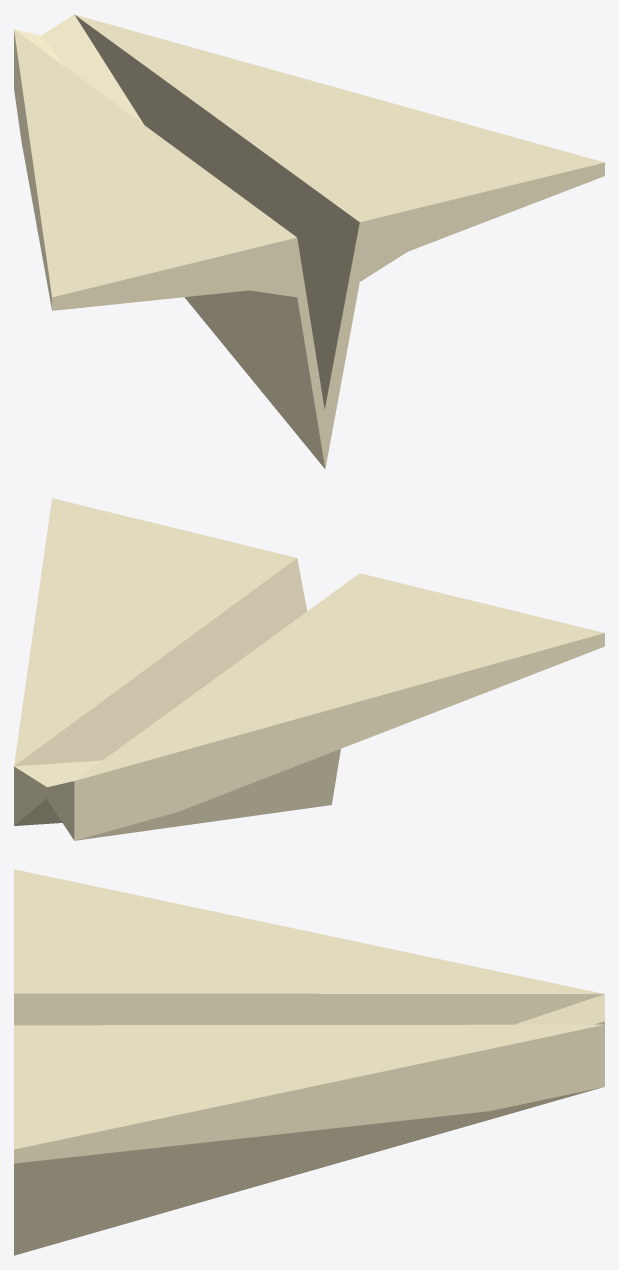
Rendered from paperPlane.fbx.
3 views of the same model, one above another, from view 1: azimuth 30°, elevation 25°; view 2: azimuth 150°, elevation 25°; view 3: azimuth 270°, elevation 25° (orthographic). The views are drawn at different scales.
Visible parts, largest first — view 1: paper_plane; view 2: paper_plane; view 3: paper_plane.
Part boxes in pixels (box(x1,y1,x2,y2)): paper_plane: box(14, 14, 604, 468); paper_plane: box(14, 498, 604, 840); paper_plane: box(14, 869, 604, 1255).
Size of the model in its own units: 112 by 46.31 by 100.
